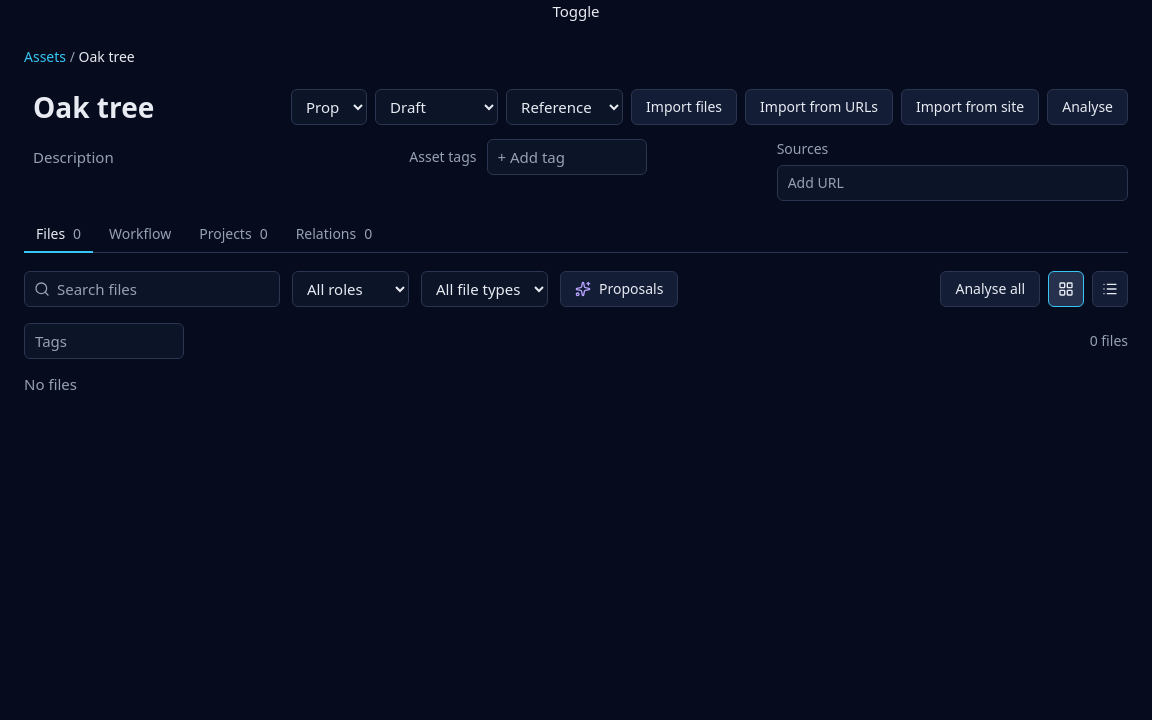
Scenario: a picked ZIP asks first; Unpack imports the entries with the role and the strip counts them
Click the button "Import files".
click(684, 106)  # box x1=631 y1=88 x2=737 y2=124
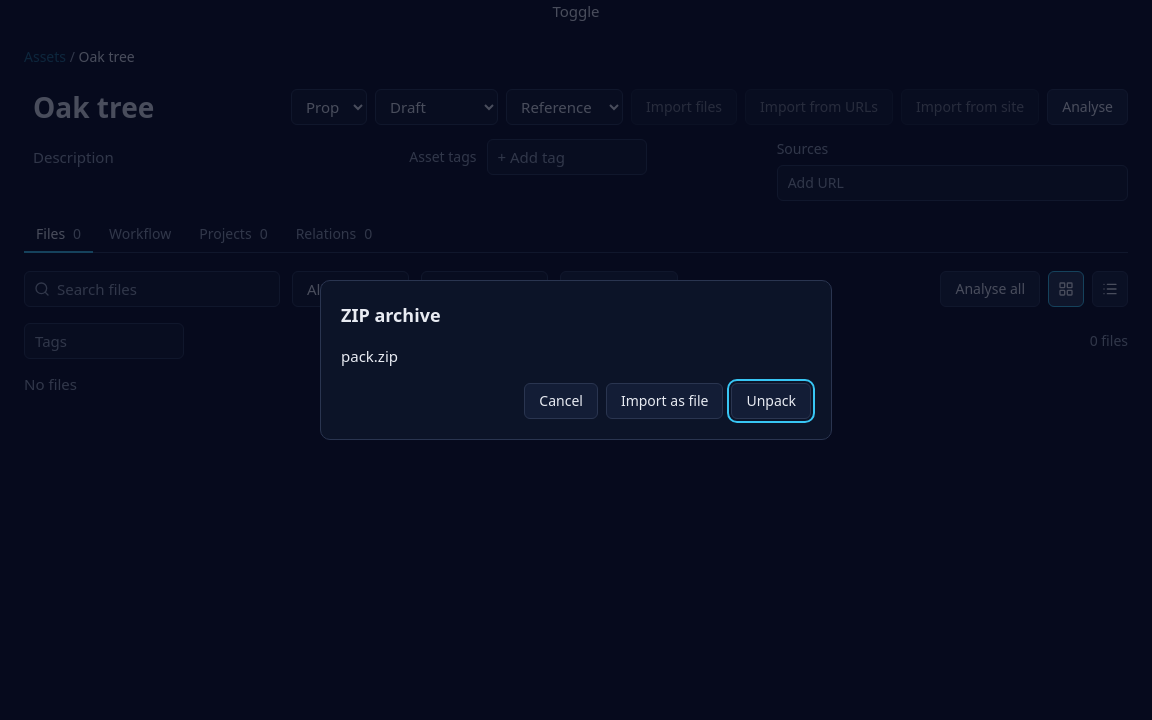
Expected: the text "pack.zip" is shown, x1=341 y1=346 x2=398 y2=366
Click the button "Unpack".
click(771, 401)  # box x1=732 y1=383 x2=811 y2=419
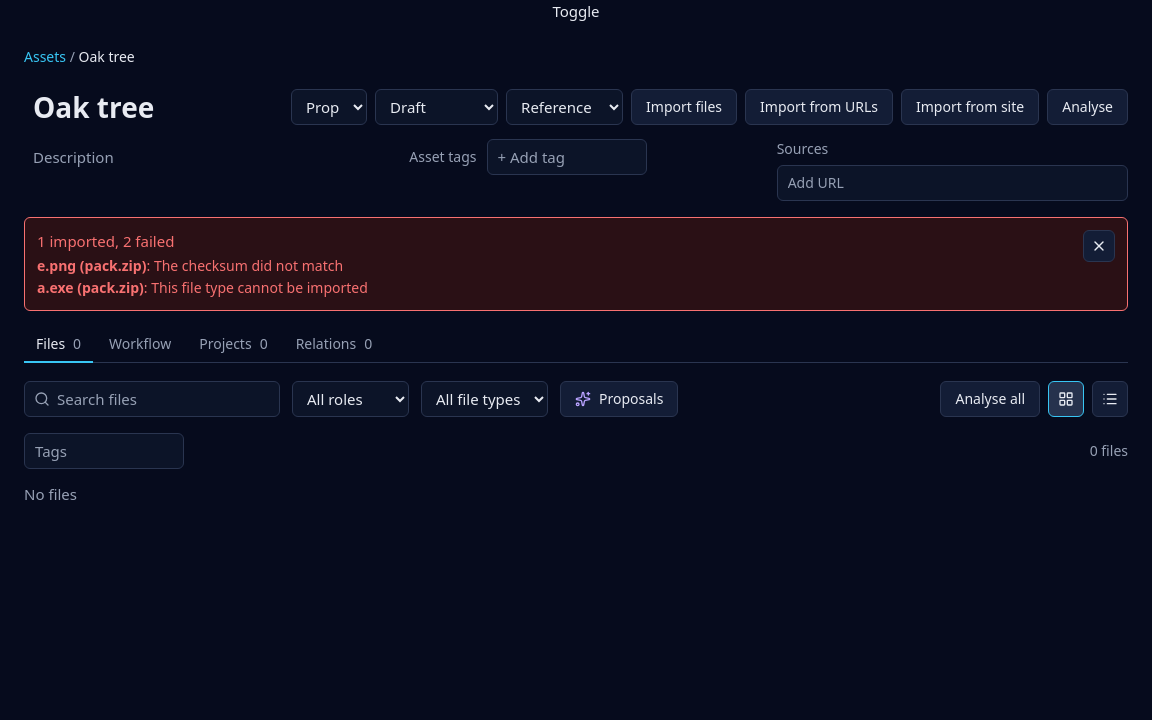
Expected: the text "1 imported, 2 failed" is shown, x1=37 y1=230 x2=174 y2=250
Expected: the message shows "a.exe (pack.zip)", x1=37 y1=278 x2=144 y2=297
Expected: the message shows "e.png (pack.zip)", x1=37 y1=256 x2=146 y2=275
